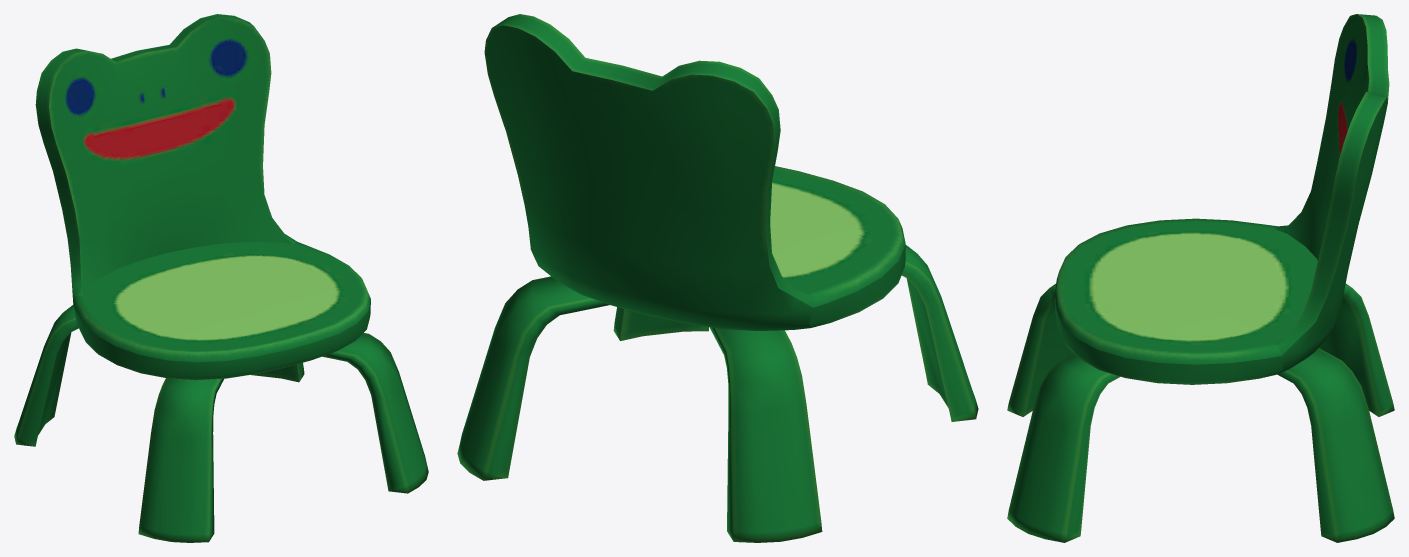
Rendered from Froggy Chair.glb.
3 views of the same model, side by side, from view 1: azimuth 30°, elevation 25°; view 2: azimuth 150°, elevation 25°; view 3: azimuth 270°, elevation 25° (orthographic). The views are drawn at different scales.
Parts seen in each view (by area): view 1: Leg_A_low__mReBody; view 2: Leg_A_low__mReBody; view 3: Leg_A_low__mReBody.
Boxes of the visible parts, x1=… form: Leg_A_low__mReBody: x1=14, y1=14, x2=428, y2=542; Leg_A_low__mReBody: x1=457, y1=14, x2=978, y2=542; Leg_A_low__mReBody: x1=1007, y1=14, x2=1394, y2=542.
Bounding box in the file's own units: 0.0709 × 0.0858 × 0.0741.
Materials: 1 (1 with a texture image).
